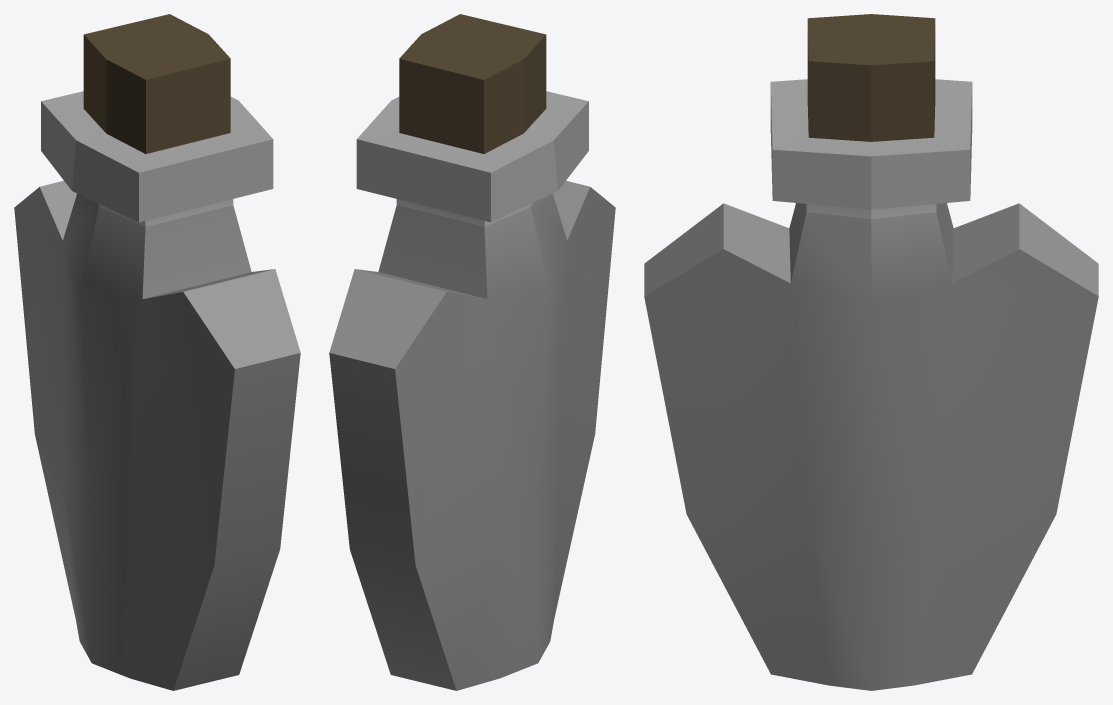
The model's file is Shield Potion.fbx.
3 renders of one model, left to right at view 1: azimuth 30°, elevation 25°; view 2: azimuth 150°, elevation 25°; view 3: azimuth 270°, elevation 25°, orthographic. The views are drawn at different scales.
Visible parts, largest first — view 1: pCylinder2; view 2: pCylinder2; view 3: pCylinder2.
Part boxes in pixels (x1,y1,x2,y2): pCylinder2: (14,14,300,690); pCylinder2: (329,14,615,690); pCylinder2: (644,14,1098,690).
Size of the model in its own units: 28.1 by 94.3 by 62.85.
